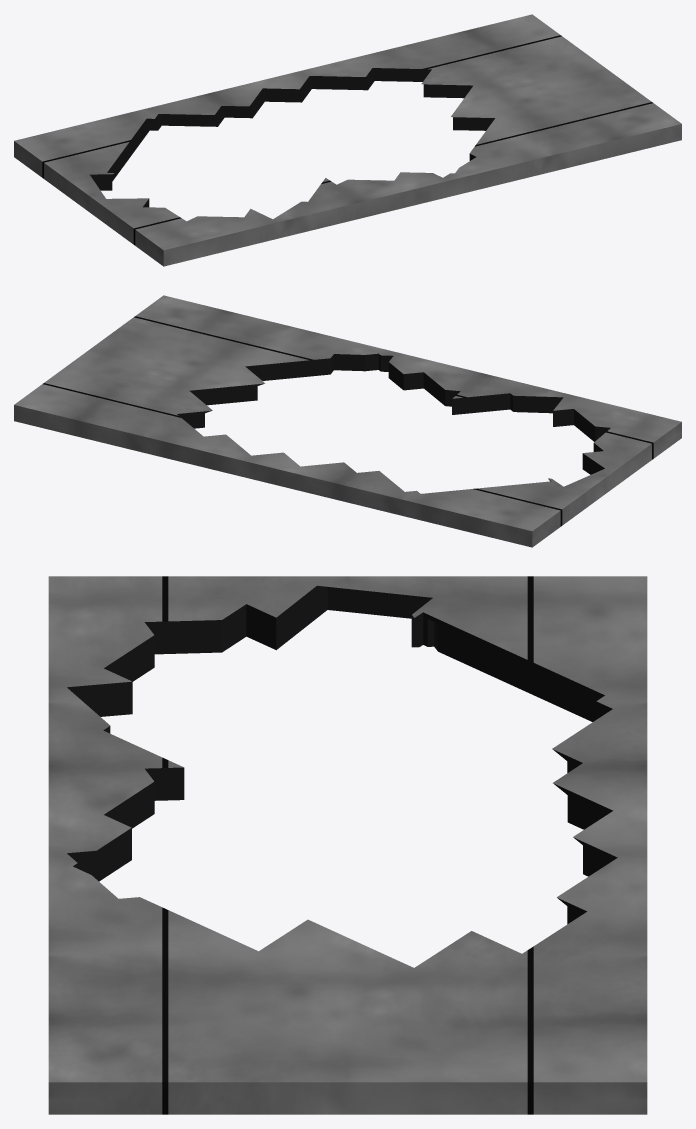
Rendered from Dirty Carbon Floor Broken M2.fbx.
3 views of the same model, one above another, from view 1: azimuth 30°, elevation 25°; view 2: azimuth 150°, elevation 25°; view 3: azimuth 270°, elevation 25° (orthographic). The views are drawn at different scales.
Visible parts, largest first — view 1: dirty carbon grey Mesh (1), dirty carbon dark grey Mesh (1), carbon dark grey Mesh (1), white led off Mesh (1); view 2: dirty carbon grey Mesh (1), dirty carbon dark grey Mesh (1), carbon dark grey Mesh (1), white led off Mesh (1); view 3: dirty carbon grey Mesh (1), dirty carbon dark grey Mesh (1), carbon dark grey Mesh (1), white led off Mesh (1).
Boxes of the visible parts, x1,y1,x2,y2 form: dirty carbon grey Mesh (1): [14, 14, 681, 266]; dirty carbon dark grey Mesh (1): [44, 36, 651, 244]; carbon dark grey Mesh (1): [90, 68, 494, 207]; white led off Mesh (1): [42, 35, 652, 245]; dirty carbon grey Mesh (1): [14, 295, 681, 547]; dirty carbon dark grey Mesh (1): [44, 317, 651, 525]; carbon dark grey Mesh (1): [177, 353, 610, 481]; white led off Mesh (1): [43, 316, 653, 526]; dirty carbon grey Mesh (1): [48, 576, 647, 1114]; dirty carbon dark grey Mesh (1): [168, 576, 527, 1114]; carbon dark grey Mesh (1): [67, 585, 617, 924]; white led off Mesh (1): [162, 576, 533, 1114].
Size of what is drawn, in the model's own units: 10 by 0.3 by 5.
